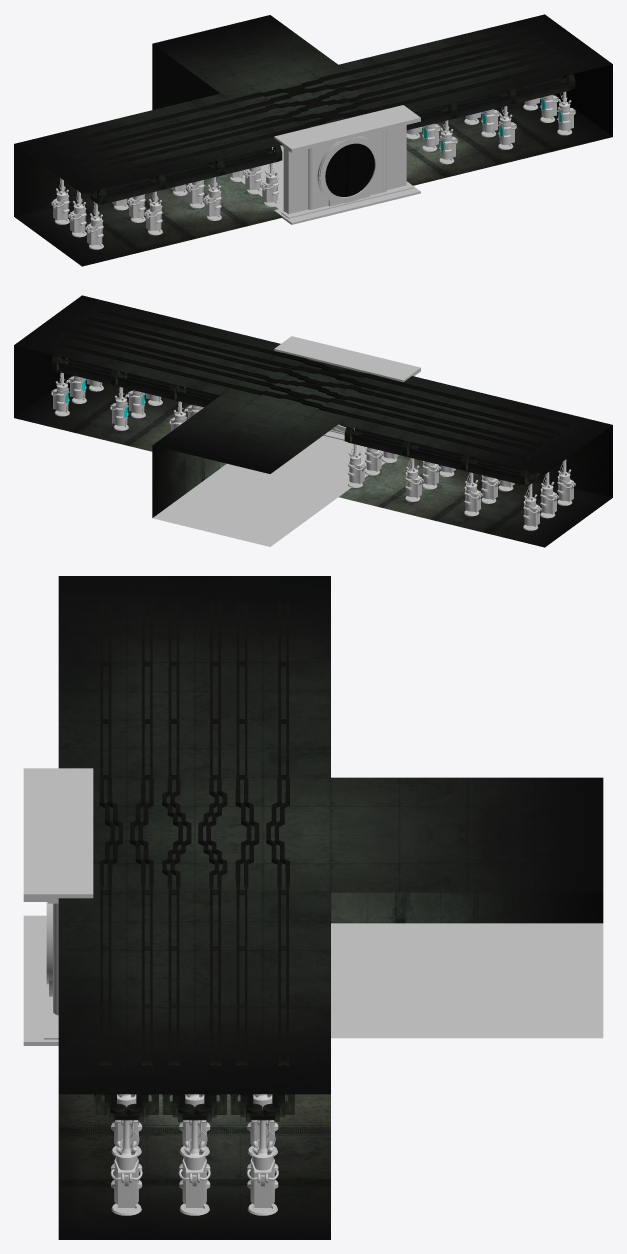
Rendered from gate.fbx.
The picture shows the model from 3 angles, top to bottom: view 1: azimuth 30°, elevation 25°; view 2: azimuth 150°, elevation 25°; view 3: azimuth 270°, elevation 25°; orthographic projection. The views are drawn at different scales.
Parts seen in each view (by area): view 1: gate:wallInner, gate:pods, gate:wallMain, gate:gateL, gate:gateR; view 2: gate:wallInner, gate:pods, gate:wallMain; view 3: gate:wallInner, gate:pods, gate:wallMain.
Part boxes in pixels (x1,y1,x2,y2): gate:wallInner: [14, 14, 612, 266]; gate:pods: [51, 28, 575, 249]; gate:wallMain: [274, 105, 420, 224]; gate:gateL: [348, 143, 374, 196]; gate:gateR: [325, 145, 348, 196]; gate:wallInner: [14, 295, 612, 547]; gate:pods: [51, 309, 575, 530]; gate:wallMain: [274, 336, 420, 440]; gate:wallInner: [58, 576, 603, 1239]; gate:pods: [94, 602, 294, 1215]; gate:wallMain: [23, 768, 93, 1045].
Size of the model in its own units: 4500 by 613 by 2128.
